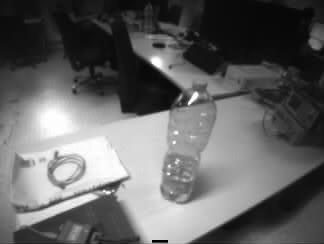Bottle: (164, 83, 210, 202)
